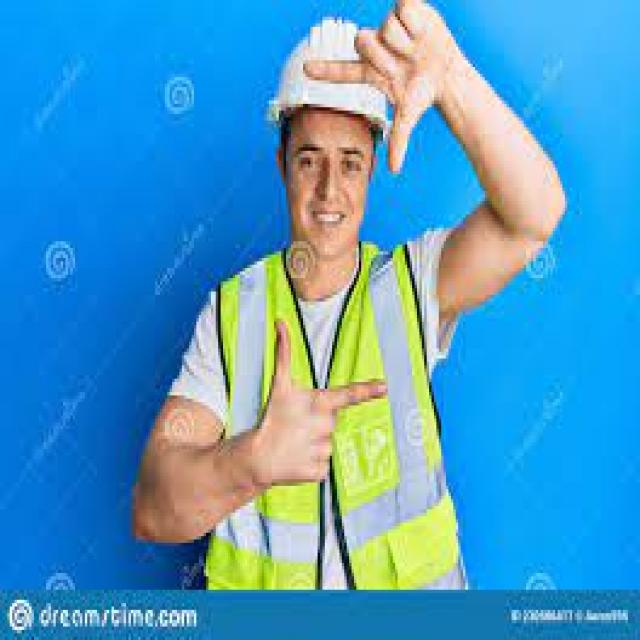Reflective-Jacket: (198, 245, 461, 593)
Safety-Helmet: (267, 10, 407, 137)
